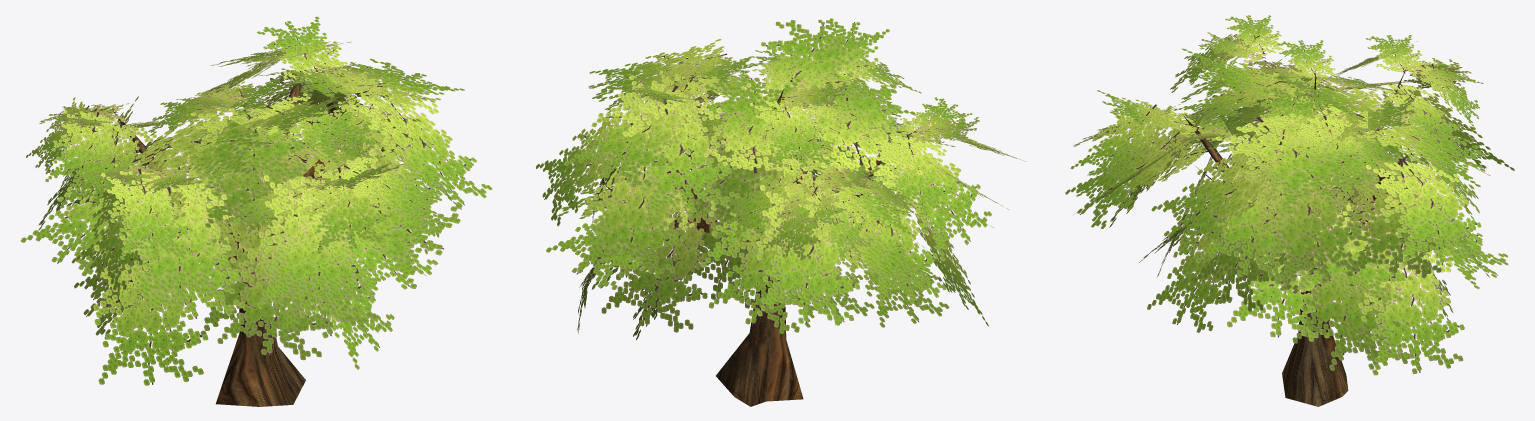
Rendered from n_SWEwtree04a.glb.
3 renders of one model, left to right at view 1: azimuth 30°, elevation 25°; view 2: azimuth 150°, elevation 25°; view 3: azimuth 270°, elevation 25°, orthographic. The views are drawn at different scales.
Parts seen in each view (by area): view 1: n_SWEwtree04a; view 2: n_SWEwtree04a; view 3: n_SWEwtree04a.
Boxes of the visible parts, x1=… form: n_SWEwtree04a: x1=20, y1=16, x2=492, y2=406; n_SWEwtree04a: x1=536, y1=18, x2=1025, y2=406; n_SWEwtree04a: x1=1065, y1=15, x2=1514, y2=406.
Size of the model in its own units: 5.7 by 4.52 by 5.7.
Materials: 3 (3 with a texture image).
